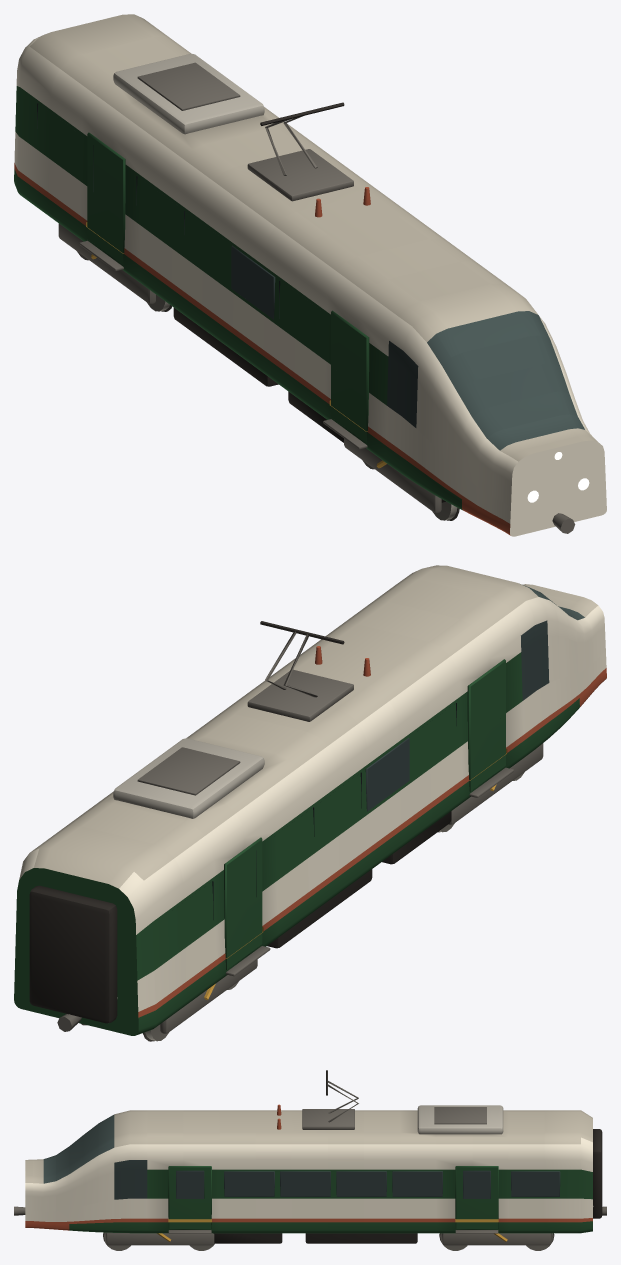
The model's file is train_cab.glb.
3 views of the same model, one above another, from view 1: azimuth 30°, elevation 25°; view 2: azimuth 150°, elevation 25°; view 3: azimuth 270°, elevation 25° (orthographic). The views are drawn at different scales.
Visible parts, largest first — view 1: train_cab_mesh, PART_door_r1_mesh, PART_door_r2_mesh, PART_pantograph_mesh, PART_bogie_front_mesh, PART_bogie_rear_mesh; view 2: train_cab_mesh, PART_door_r1_mesh, PART_door_r2_mesh, PART_pantograph_mesh, PART_bogie_rear_mesh, PART_bogie_front_mesh; view 3: train_cab_mesh, PART_door_l1_mesh, PART_door_l2_mesh, PART_bogie_rear_mesh, PART_bogie_front_mesh, PART_pantograph_mesh.
Part boxes in pixels (bbox=[...]): train_cab_mesh: bbox=[14, 14, 606, 536]; PART_door_r1_mesh: bbox=[86, 132, 125, 264]; PART_door_r2_mesh: bbox=[329, 310, 369, 443]; PART_pantograph_mesh: bbox=[247, 102, 353, 201]; PART_bogie_front_mesh: bbox=[344, 439, 445, 512]; PART_bogie_rear_mesh: bbox=[58, 223, 155, 303]; train_cab_mesh: bbox=[14, 565, 606, 1035]; PART_door_r1_mesh: bbox=[224, 837, 263, 969]; PART_door_r2_mesh: bbox=[467, 659, 507, 791]; PART_pantograph_mesh: bbox=[247, 621, 353, 721]; PART_bogie_rear_mesh: bbox=[160, 959, 257, 1033]; PART_bogie_front_mesh: bbox=[449, 743, 543, 824]; train_cab_mesh: bbox=[14, 1104, 606, 1243]; PART_door_l1_mesh: bbox=[455, 1166, 498, 1228]; PART_door_l2_mesh: bbox=[168, 1166, 211, 1228]; PART_bogie_rear_mesh: bbox=[442, 1233, 551, 1245]; PART_bogie_front_mesh: bbox=[106, 1232, 214, 1245]; PART_pantograph_mesh: bbox=[302, 1070, 358, 1129].
Size of the model in its own units: 3.2 by 5.3 by 17.98.
